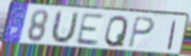8: (26, 9, 50, 43)
E: (74, 12, 105, 47)
I: (166, 19, 178, 51)
P: (127, 16, 156, 50)
Q: (103, 14, 129, 49)
U: (48, 10, 80, 46)
